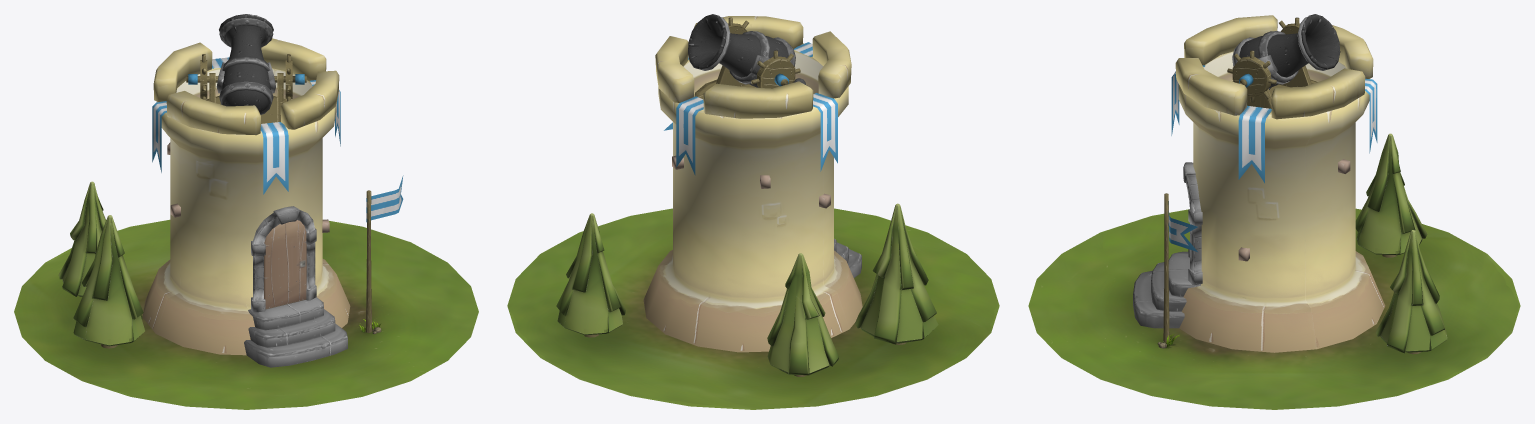
File: tower.glb
The picture shows the model from 3 angles, left to right: view 1: azimuth 30°, elevation 25°; view 2: azimuth 150°, elevation 25°; view 3: azimuth 270°, elevation 25°; orthographic projection. The views are drawn at different scales.
Bounding box in the file's own units: 6.34 × 4.26 × 6.34.
Materials: 2 (2 with a texture image).
